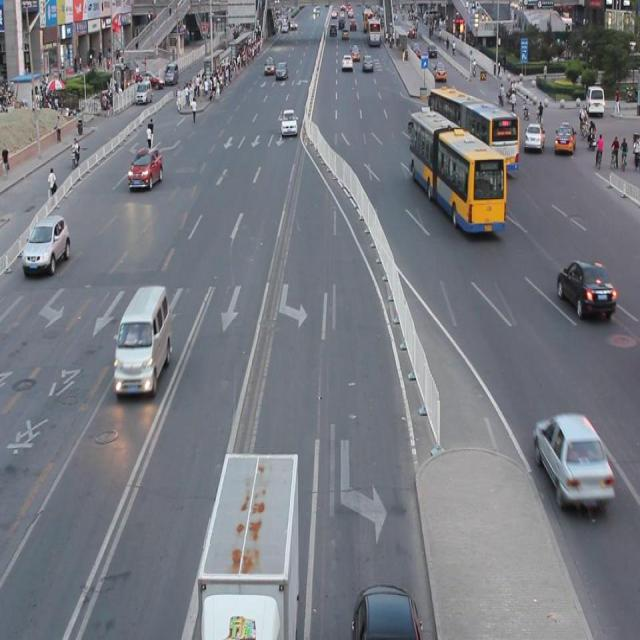bus: (196, 451, 299, 640)
car: (533, 410, 612, 509), (351, 582, 422, 640), (556, 257, 616, 318), (23, 214, 70, 273), (128, 146, 162, 190)
truck: (114, 284, 172, 394)
van: (410, 110, 505, 232)
